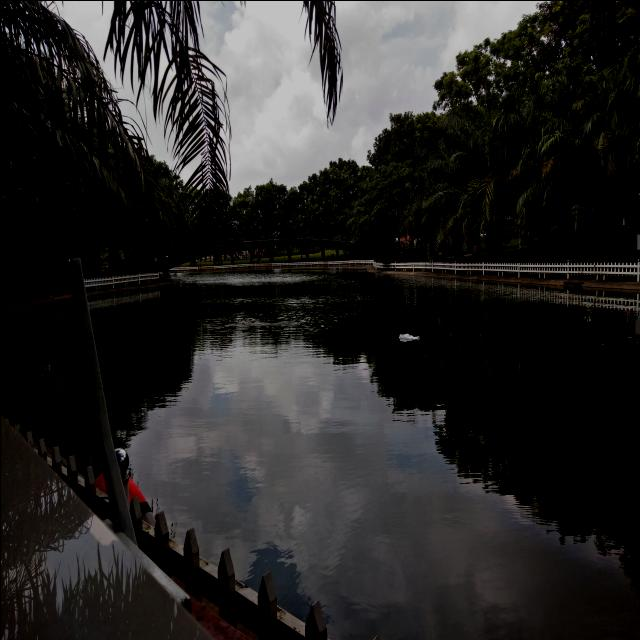Single-use carrier bag: (397, 333, 419, 338)
